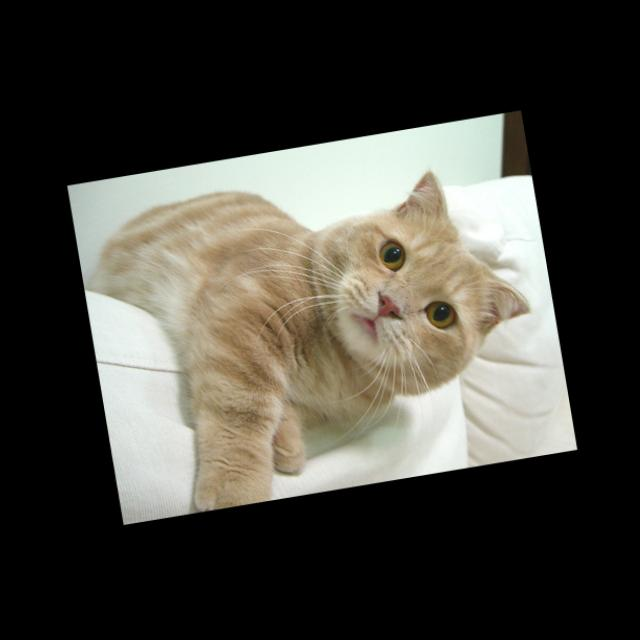animals: (358, 159, 532, 351)
